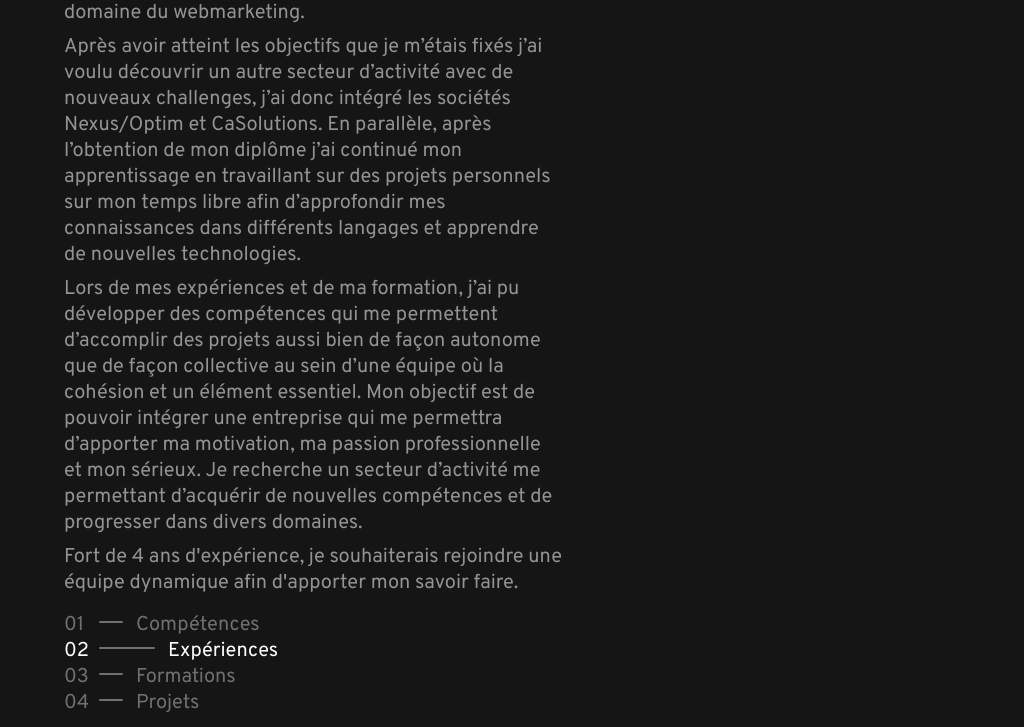
Test: should go to page Formations
The width and height of the screenshot is (1024, 727).
(page scrolled)
What coordinates should you click on to do the following:
click the text "Formations"
I would click on:
 (186, 677)
Its box is [136,664,236,690].
(page scrolled)
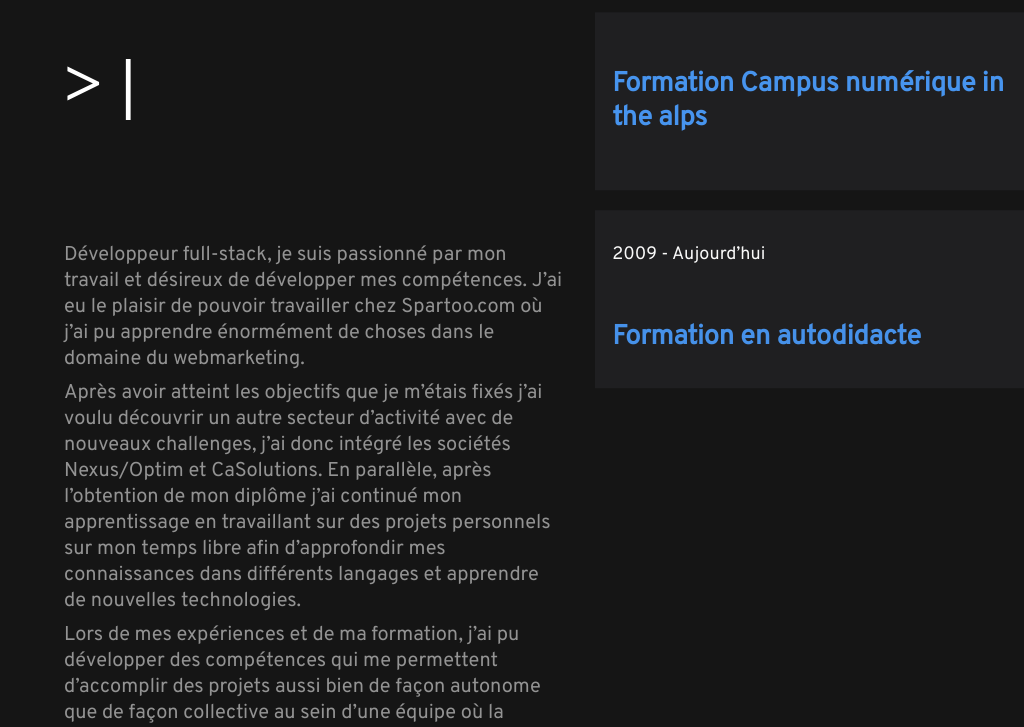
Now the heading "Formation Campus numérique in the alps" is shown, box [612,68,1007,136]
